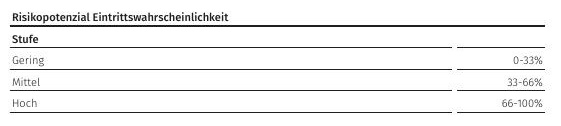table: (0, 0, 561, 126)
